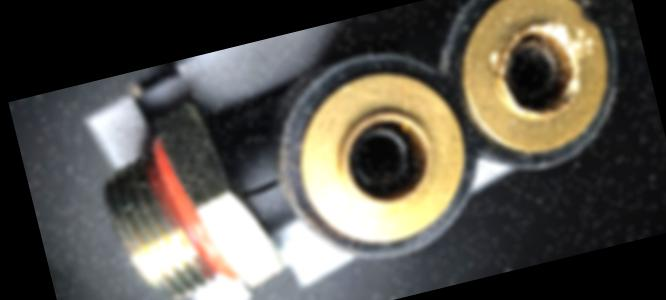bump: (570, 1, 612, 38)
craze: (233, 176, 281, 204)
